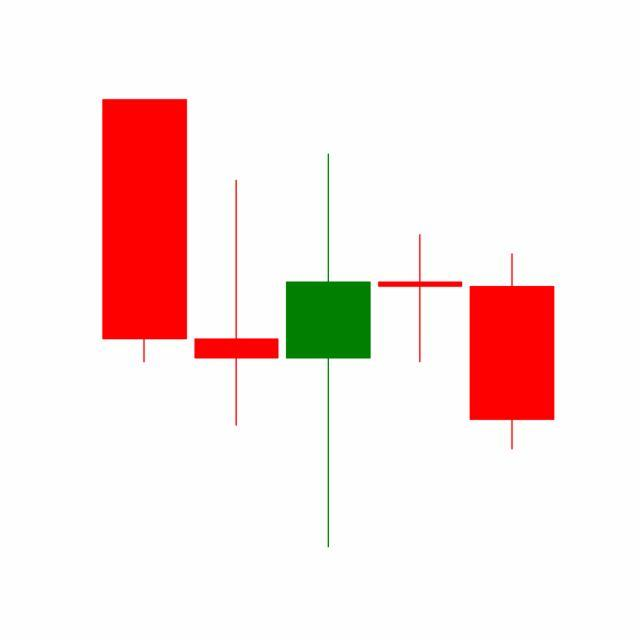Spinning Top: (374, 233, 468, 365)
